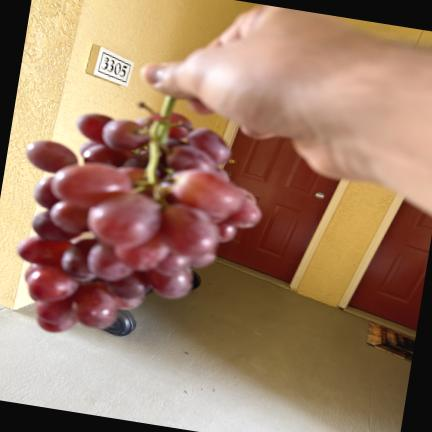grape_cluster: (18, 97, 261, 332)
